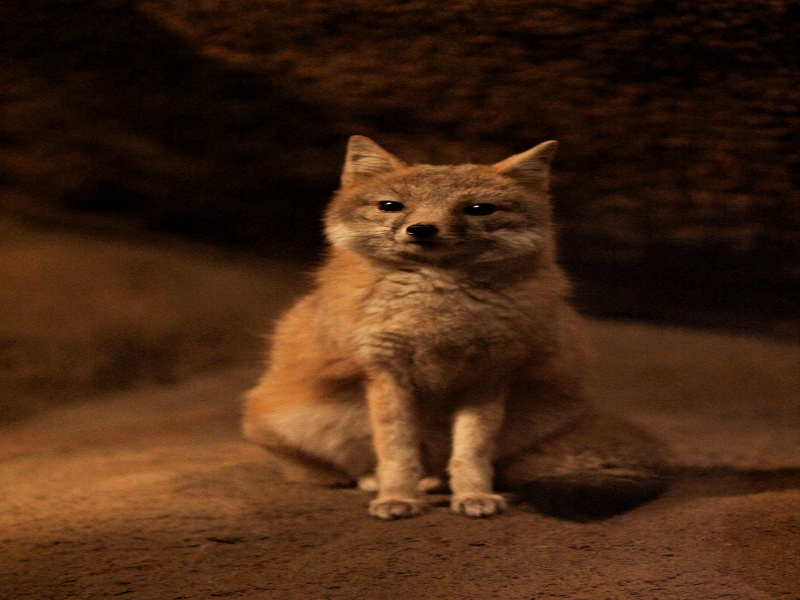fox: (230, 124, 668, 527)
